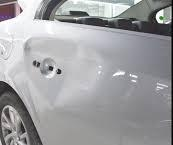dent: (10, 34, 95, 120)
